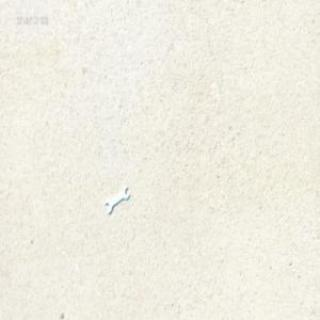Wrenchtrack_idkeyframe: (104, 183, 129, 214)
